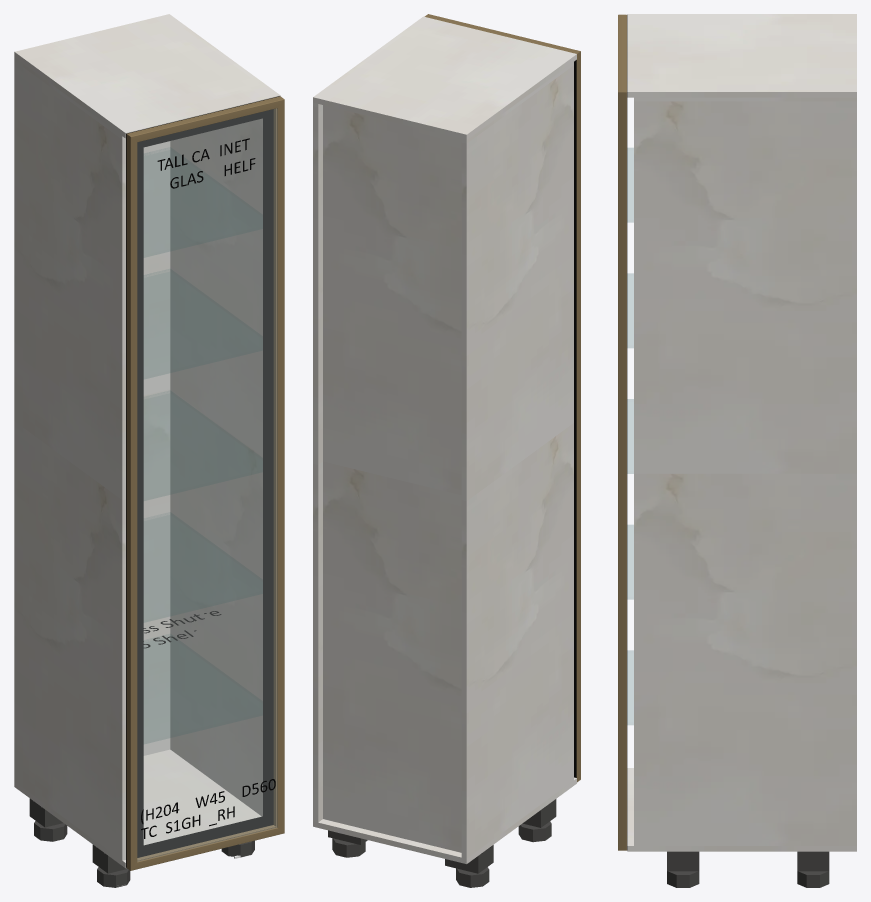
The model's file is TC5GS1GHS_RH (H2040xW450xD560).glb.
3 renders of one model, left to right at view 1: azimuth 30°, elevation 25°; view 2: azimuth 150°, elevation 25°; view 3: azimuth 270°, elevation 25°, orthographic. The views are drawn at different scales.
Size of what is drawn, in the model's own units: 0.45 by 2.14 by 0.6034.
Materials: 8 (1 with a texture image).
